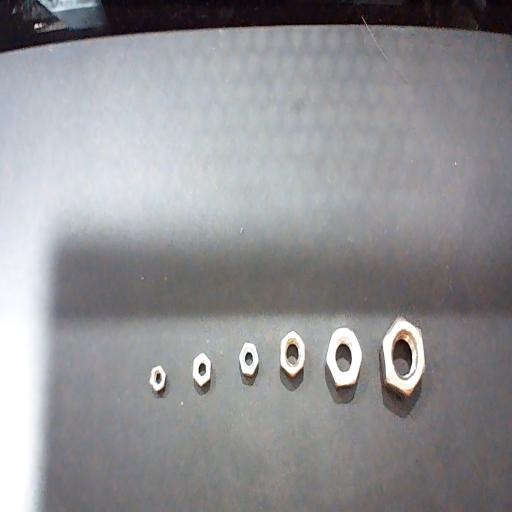nut: (380, 316, 427, 399), (326, 326, 362, 388), (280, 330, 306, 378), (238, 341, 258, 378), (193, 351, 211, 388), (149, 364, 167, 392)
